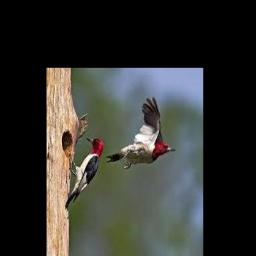Woodpecker: (106, 97, 176, 169), (65, 137, 105, 210)
